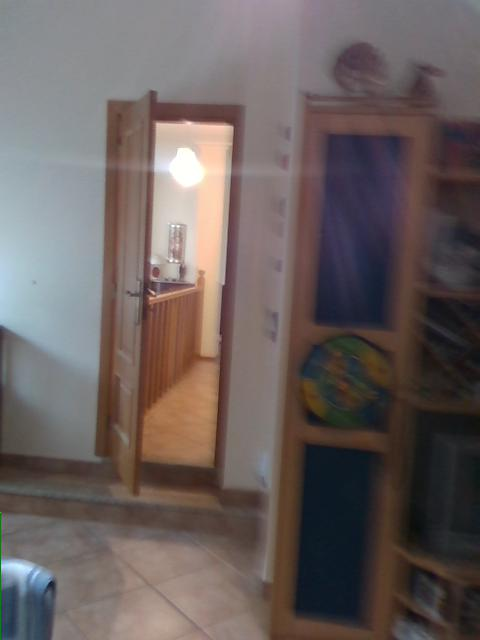semi_door: (87, 88, 244, 498)
